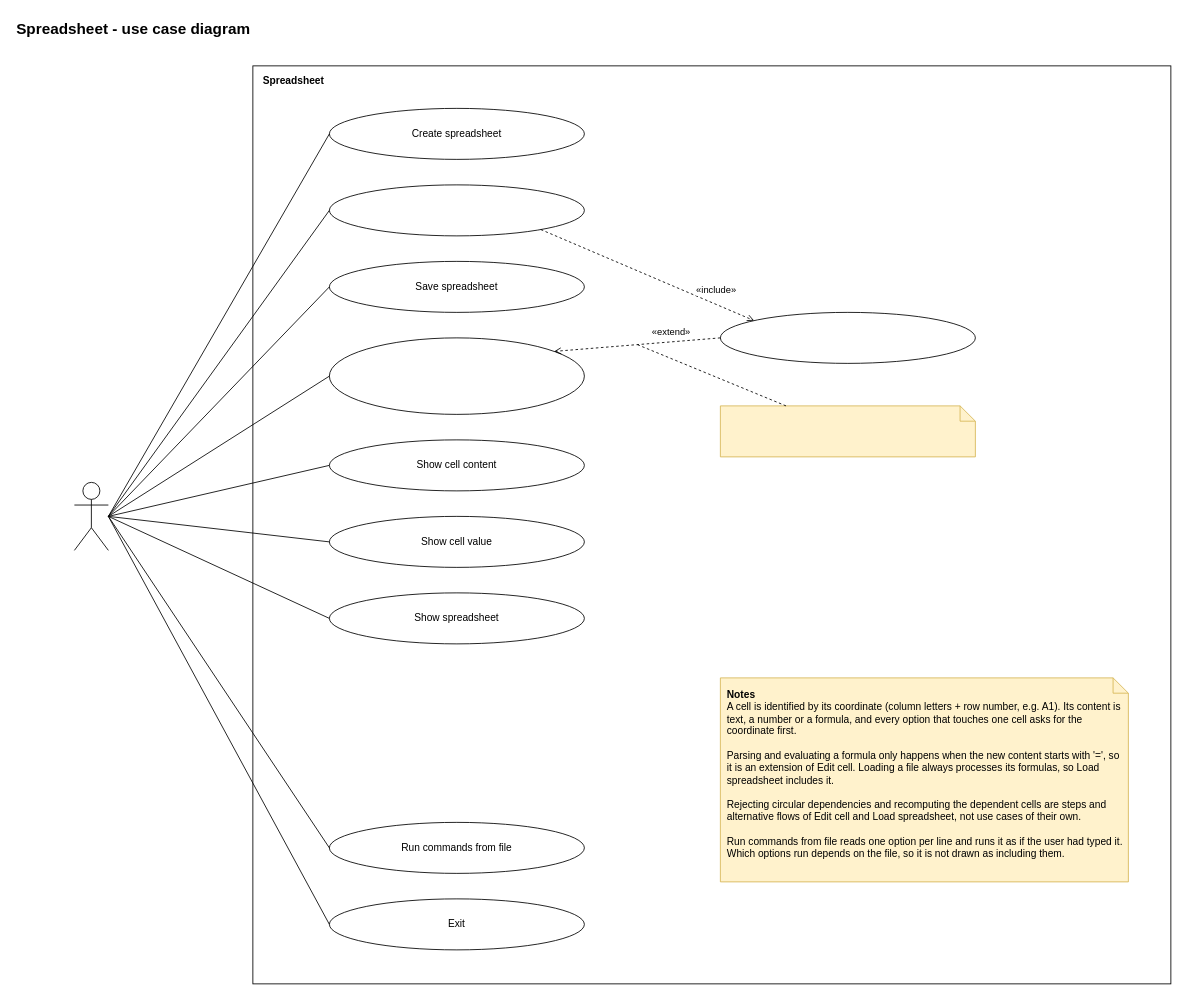
This 1186x999 diagram has some shape labels left out. Here are the shapes that lost their labels. From the top down, the box of each, then its label:
(329, 184, 584, 236): Load spreadsheet
(720, 312, 975, 363): Process formula
(329, 337, 584, 414): Edit cell extension points content type
(720, 405, 975, 457): Condition: {content starts with '='} extension point: content type
(74, 482, 108, 550): User
